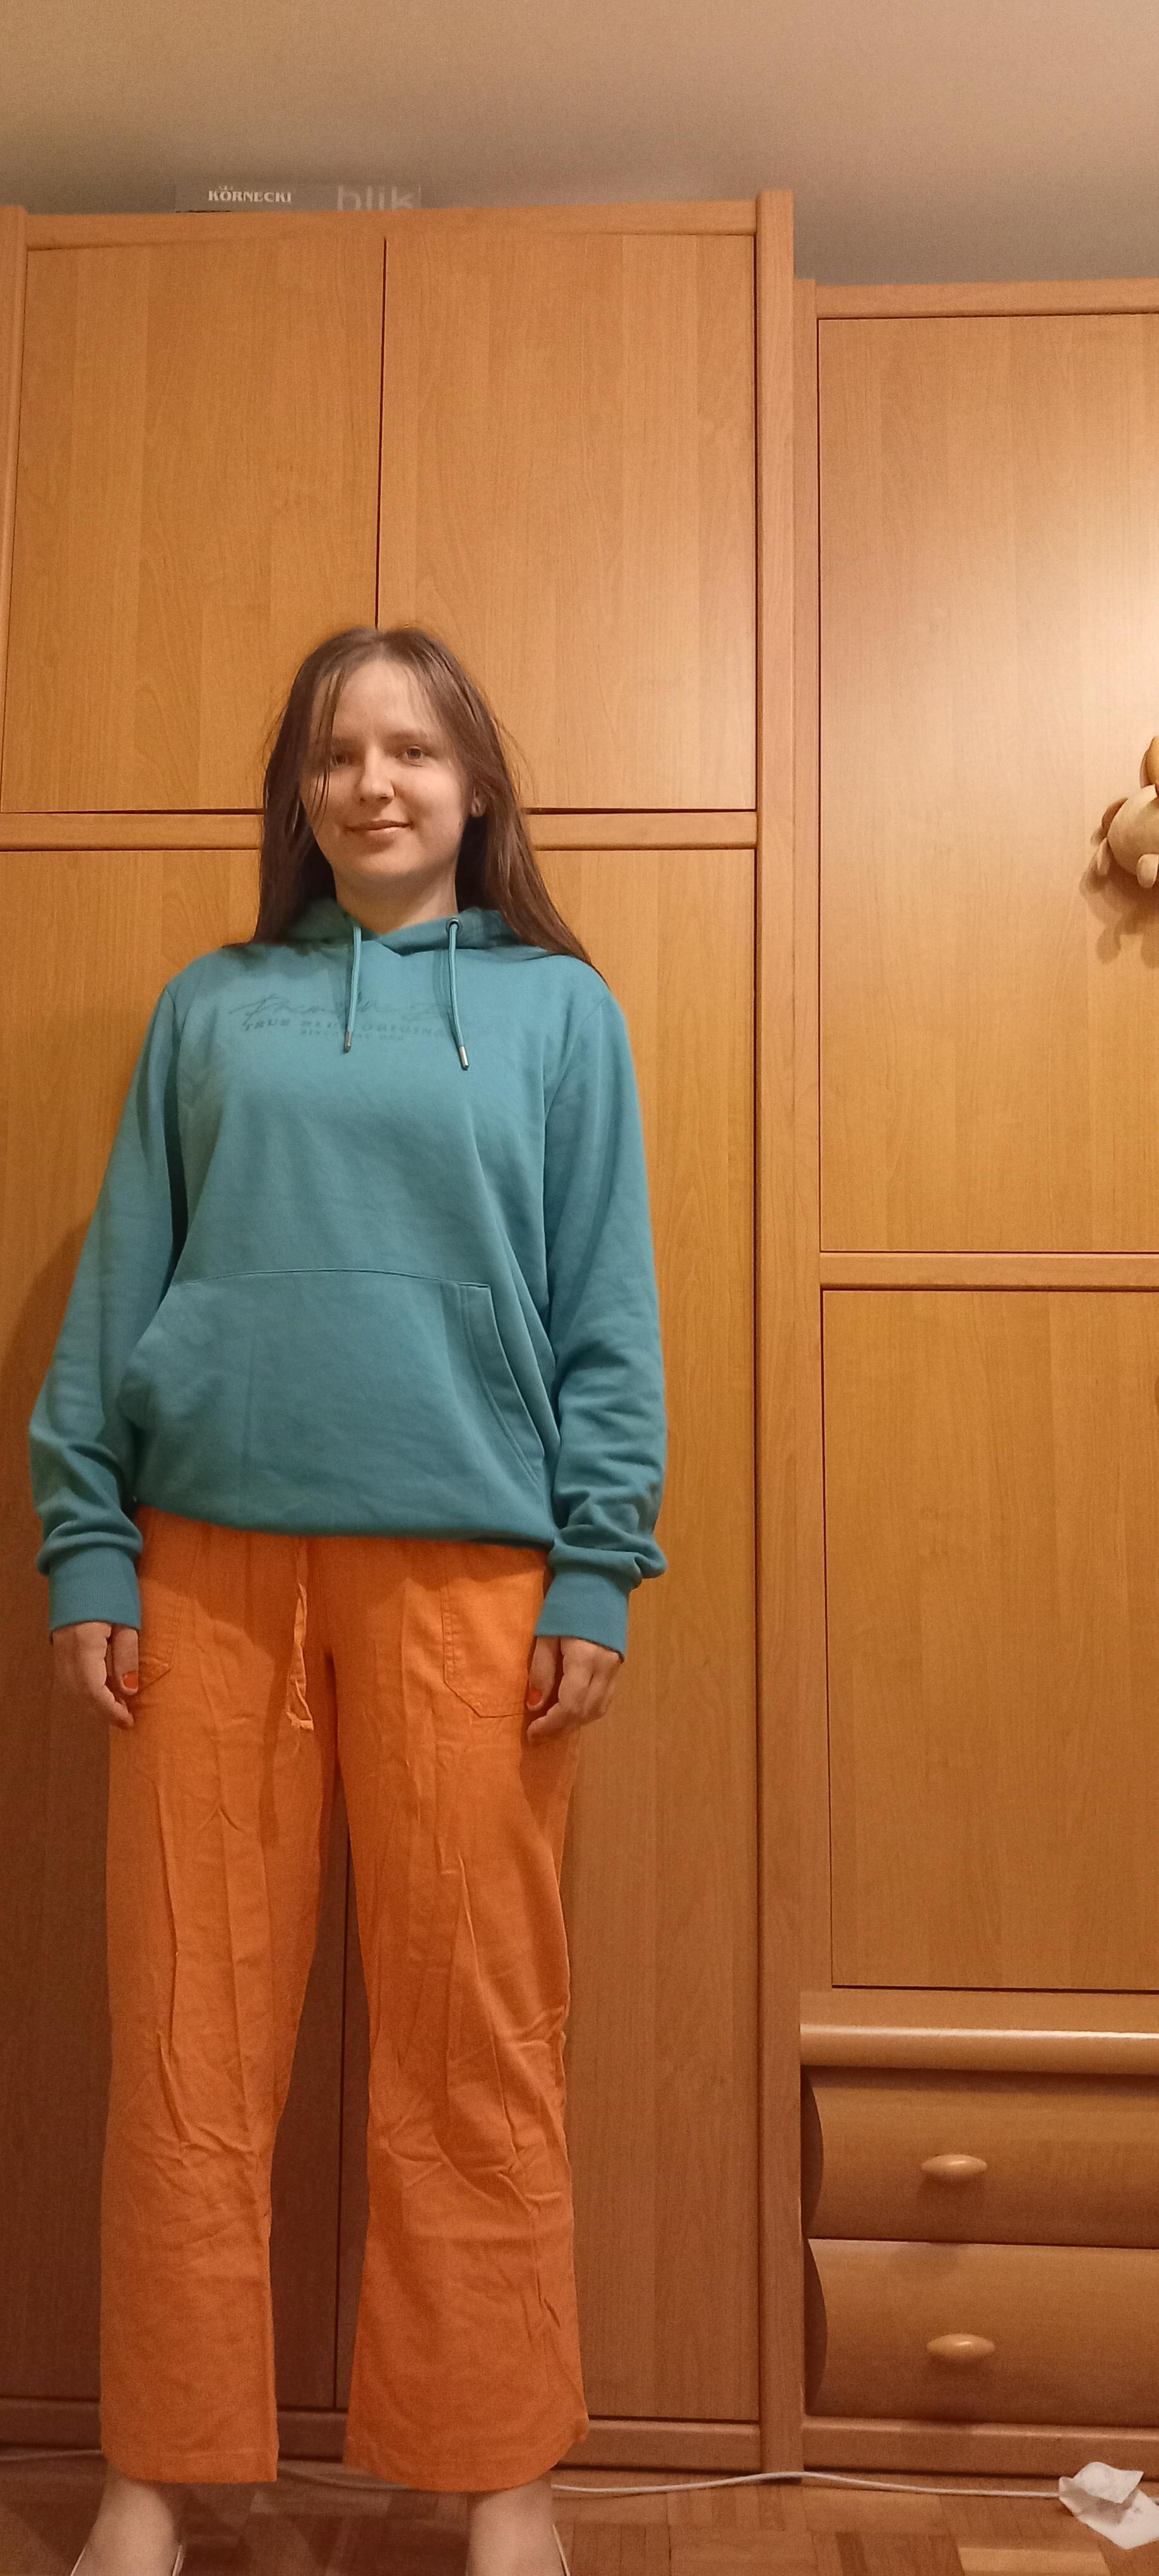pants: (102, 1500, 594, 2495)
sweater: (26, 892, 670, 1658)
